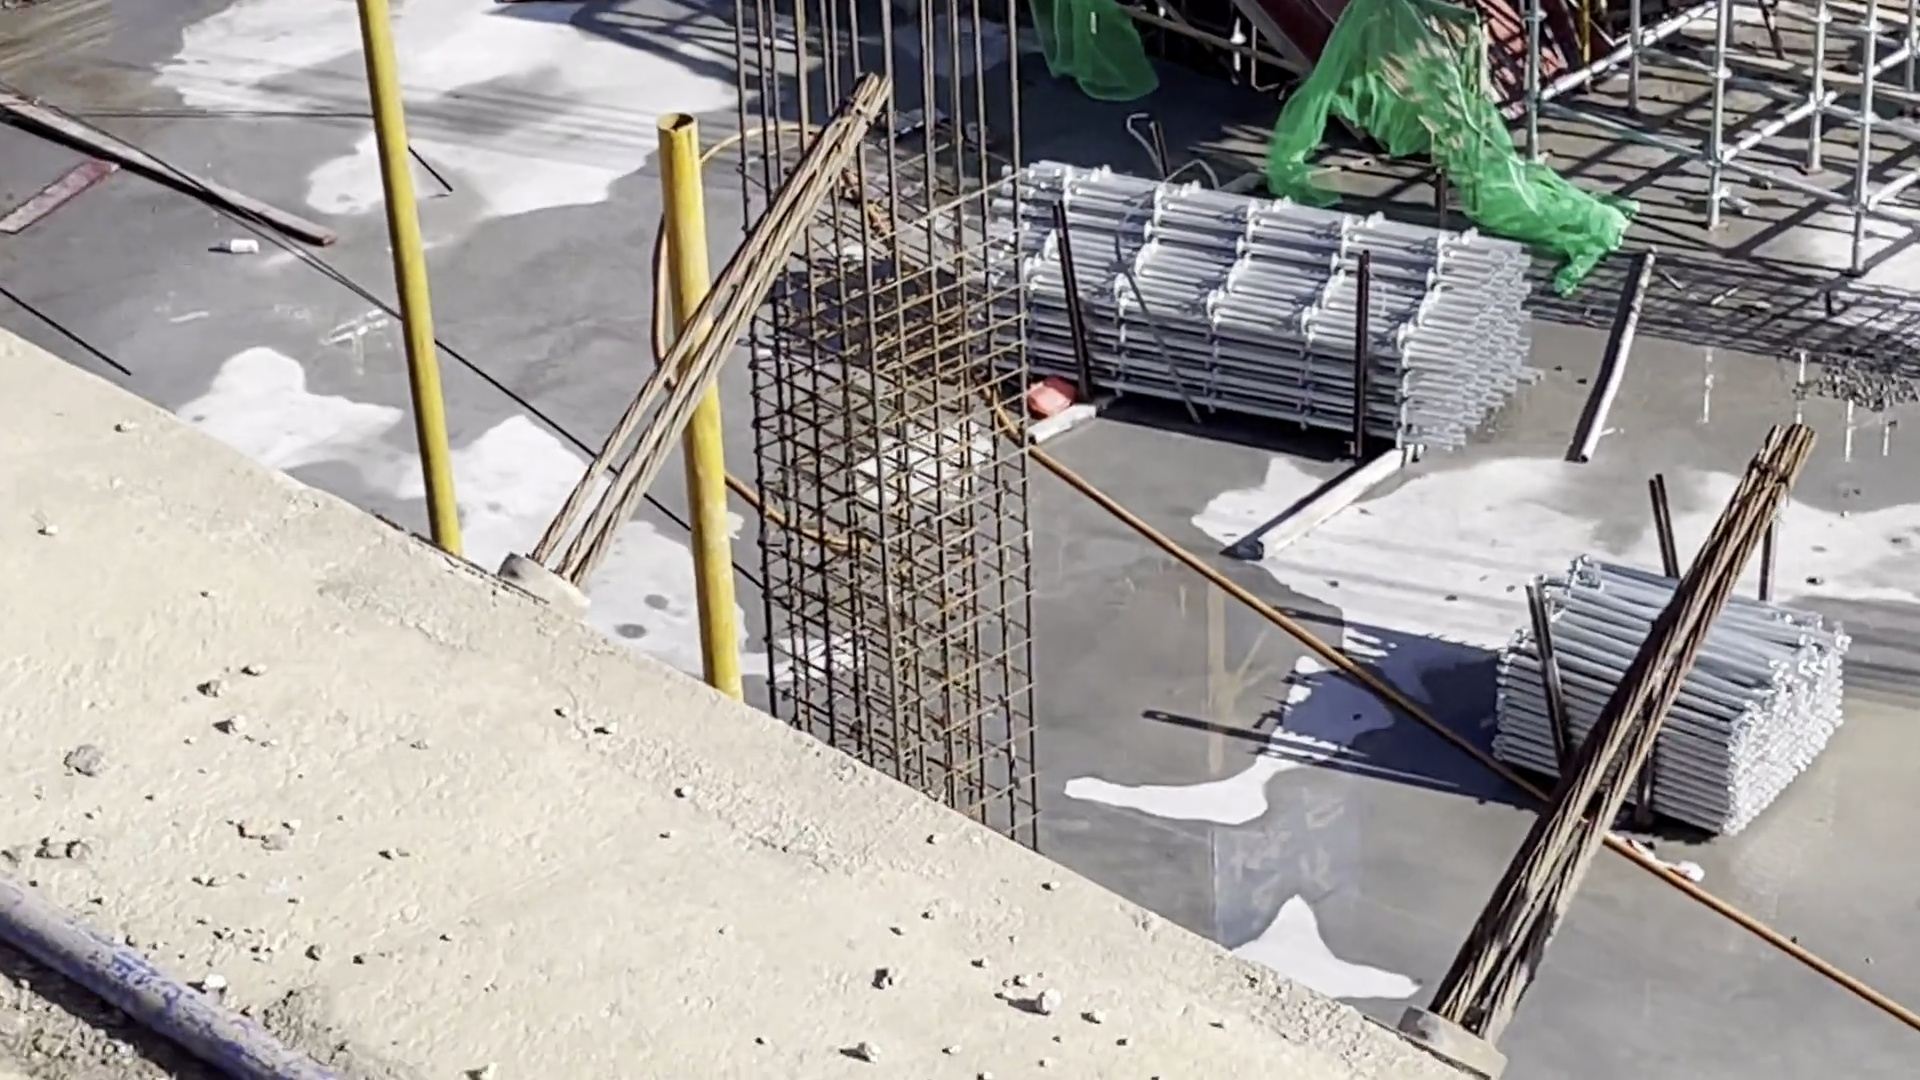scaffold: (963, 161, 1545, 459), (1494, 559, 1846, 835)
